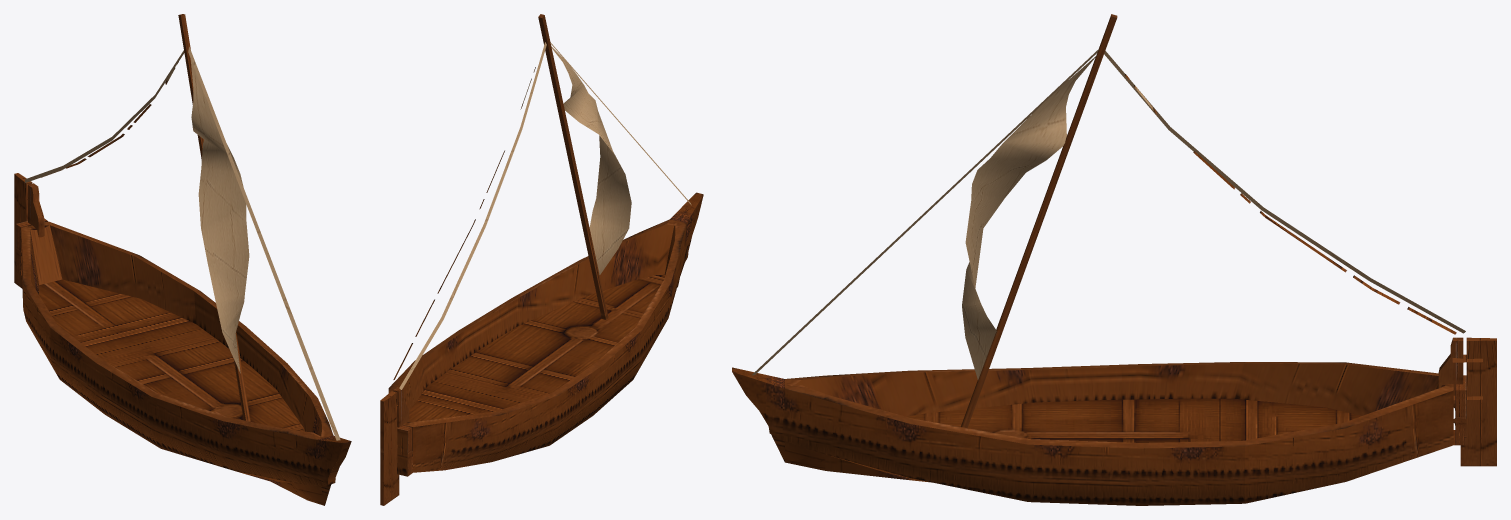
File: ship_fish.dae
3 renders of one model, left to right at view 1: azimuth 30°, elevation 25°; view 2: azimuth 150°, elevation 25°; view 3: azimuth 270°, elevation 25°, orthographic. The views are drawn at different scales.
Visible parts, largest first — view 1: ship_macrob_fish; view 2: ship_macrob_fish; view 3: ship_macrob_fish.
Part boxes in pixels (x1,y1,x2,y2): ship_macrob_fish: [14, 14, 351, 505]; ship_macrob_fish: [380, 14, 703, 505]; ship_macrob_fish: [732, 14, 1496, 505].
Bounding box in the file's own units: 4.32 × 16.53 × 11.38.
